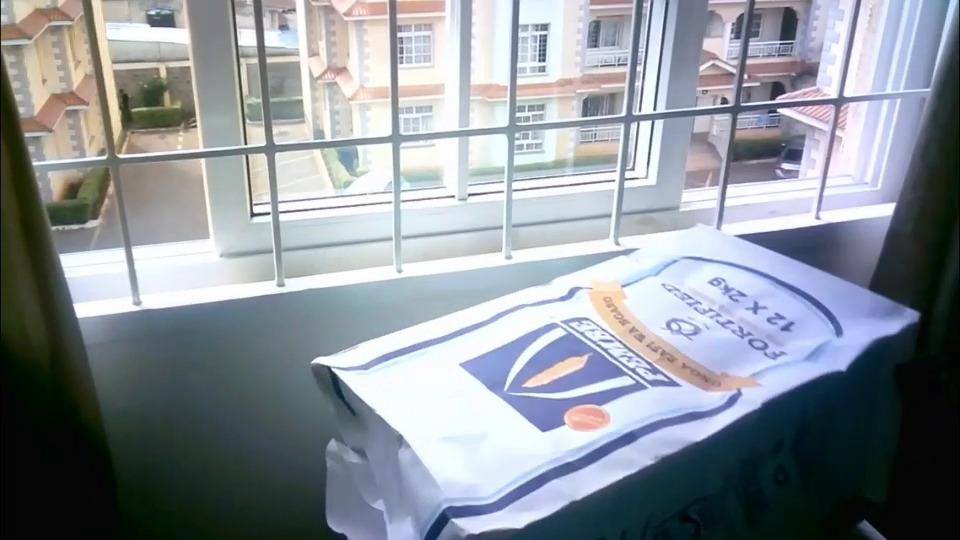wheat_flour_blue_label: (312, 223, 924, 527)
